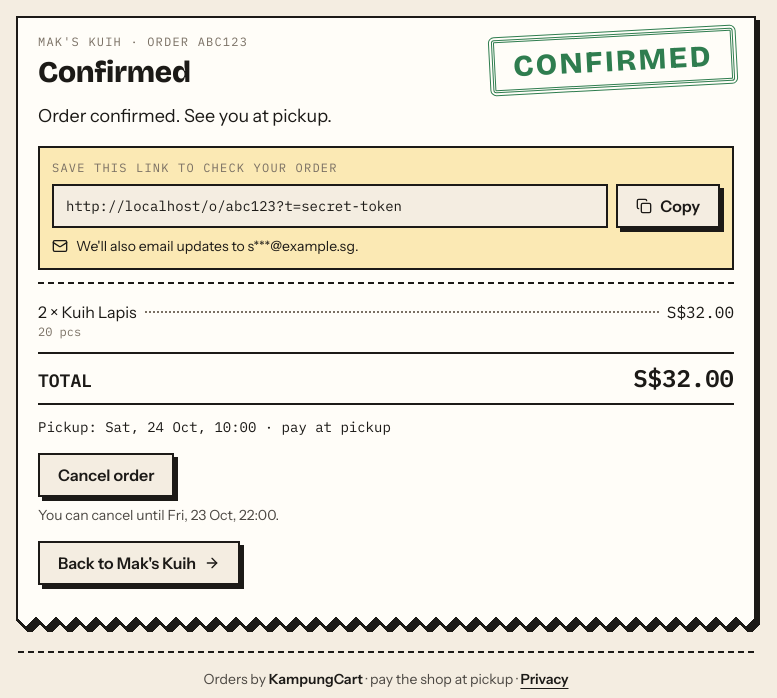
Test: customer order status page › cancels only after a second tap
Click the button "Cancel order". click: click(106, 475)
box: left=38, top=453, right=174, bottom=497
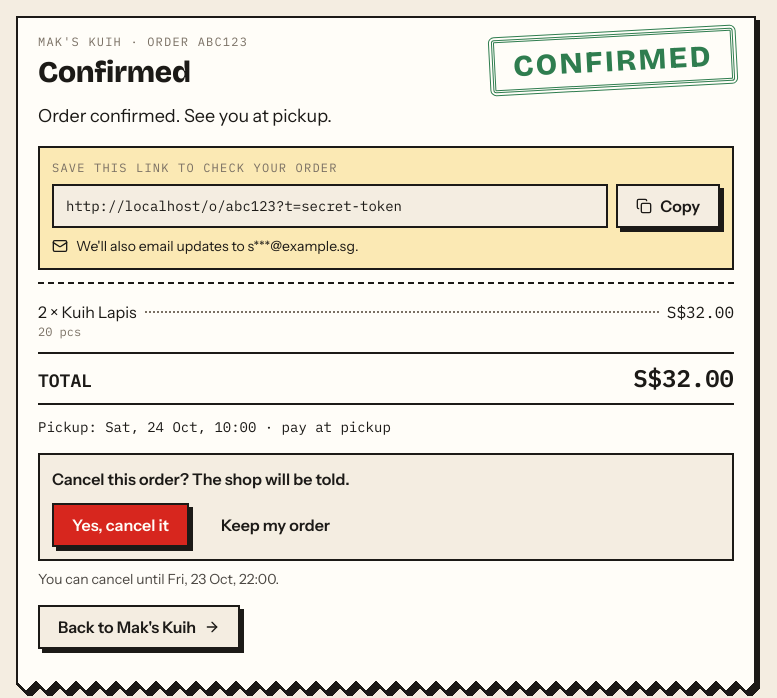
Click the button "Yes, cancel it". click: click(120, 525)
box: left=52, top=503, right=189, bottom=547
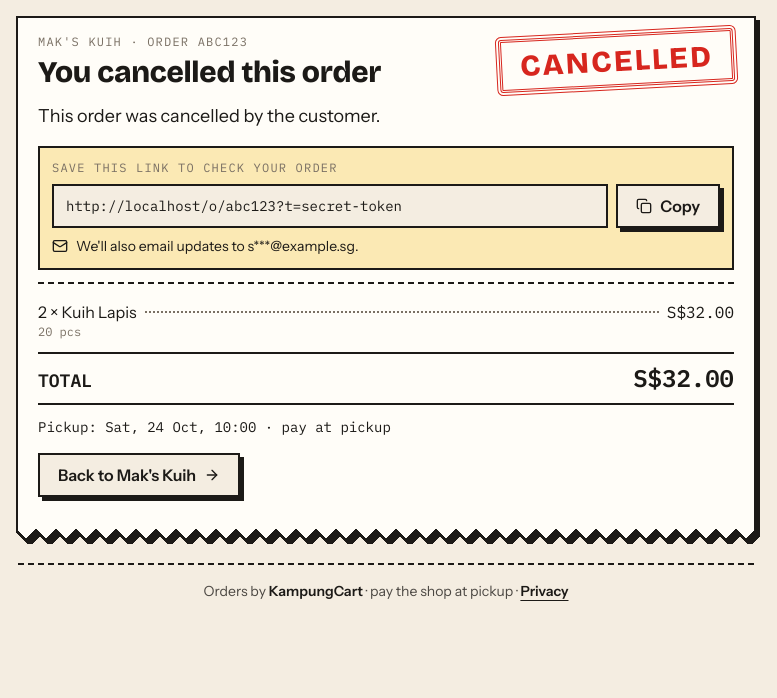
Expected: the button "Cancel order" is not shown
Now the heading "You cancelled this order" is shown, box left=38, top=54, right=381, bottom=90
